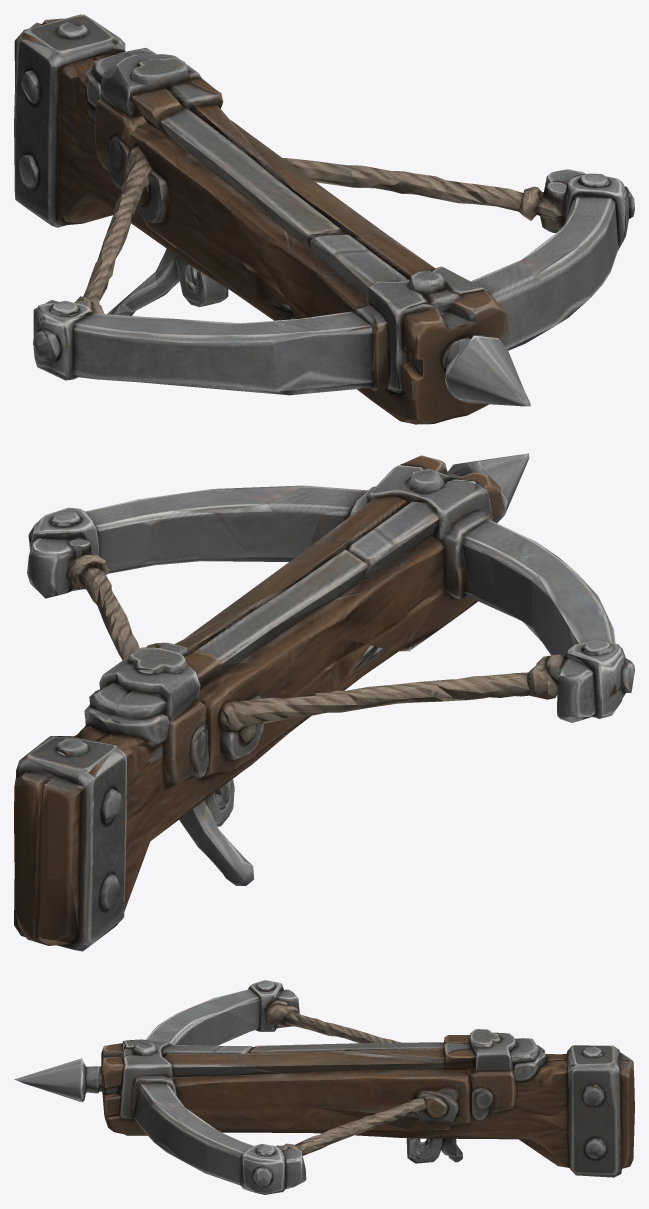
The model's file is minion_crossbow.glb.
3 renders of one model, top to bottom at view 1: azimuth 30°, elevation 25°; view 2: azimuth 150°, elevation 25°; view 3: azimuth 270°, elevation 25°, orthographic. The views are drawn at different scales.
Size of the model in its own units: 0.8583 by 0.3146 by 1.22.
1 material, 1 textured.
